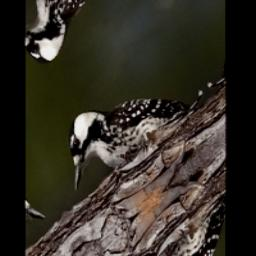Woodpecker: (50, 38, 194, 216)
